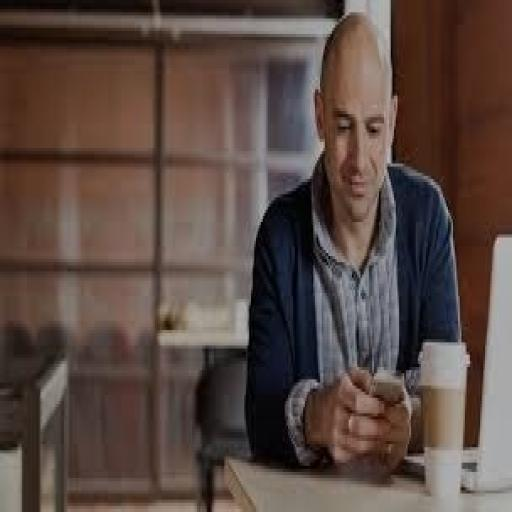texting: (242, 9, 465, 475)
